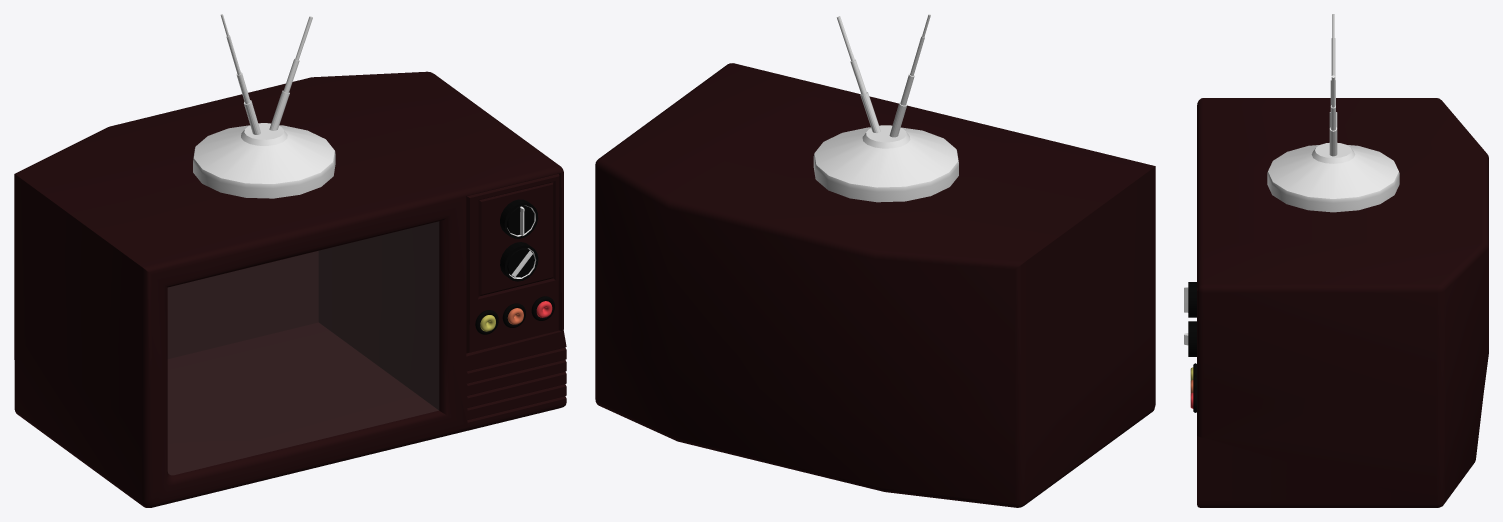
3 views of the same model, side by side, from view 1: azimuth 30°, elevation 25°; view 2: azimuth 150°, elevation 25°; view 3: azimuth 270°, elevation 25° (orthographic). The views are drawn at different scales.
Visible parts, largest first — view 1: TV; view 2: TV; view 3: TV.
Part boxes in pixels (left/top/right/bottom): TV: left=14, top=14, right=566, bottom=507; TV: left=595, top=14, right=1155, bottom=507; TV: left=1184, top=14, right=1488, bottom=507.
Bounding box in the file's own units: 0.9076 × 0.8379 × 0.6177.
